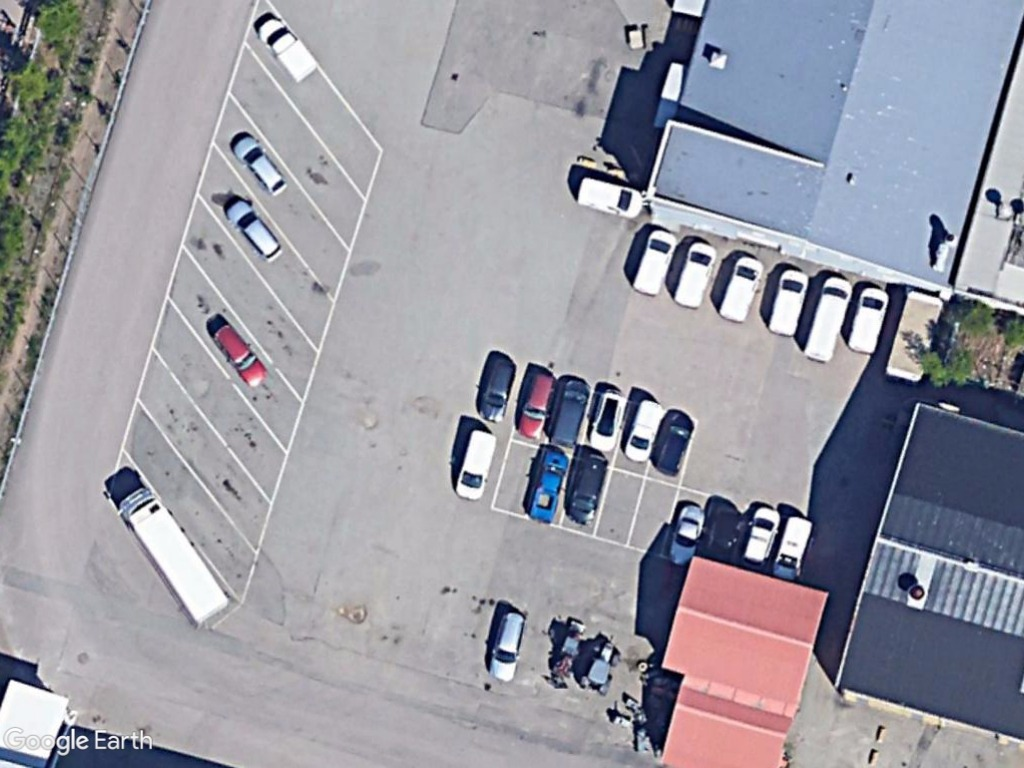car: (216, 194, 288, 269), (205, 315, 272, 394), (228, 128, 292, 199), (481, 606, 533, 689), (507, 365, 560, 445), (560, 447, 610, 530), (524, 444, 575, 522), (471, 352, 520, 429), (648, 406, 698, 478), (661, 500, 711, 570)
truck: (111, 481, 242, 634)
van: (794, 272, 856, 369), (252, 12, 328, 91), (712, 247, 773, 330), (448, 424, 506, 507), (628, 220, 682, 305), (840, 280, 897, 358), (762, 510, 817, 587), (570, 173, 649, 224), (539, 376, 590, 452), (764, 266, 813, 342), (734, 497, 784, 571), (618, 394, 668, 467), (674, 239, 719, 312)
